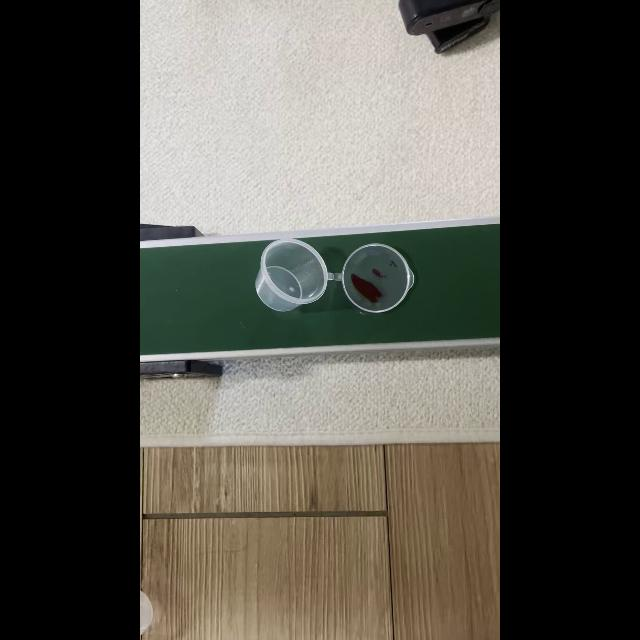dirty: (257, 246, 409, 306)
